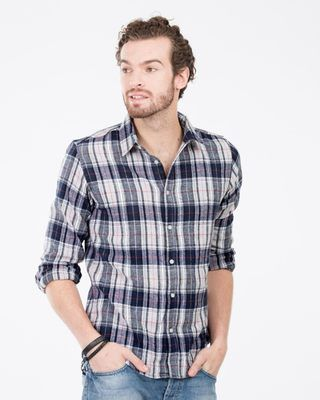shirt: (19, 111, 255, 379)
